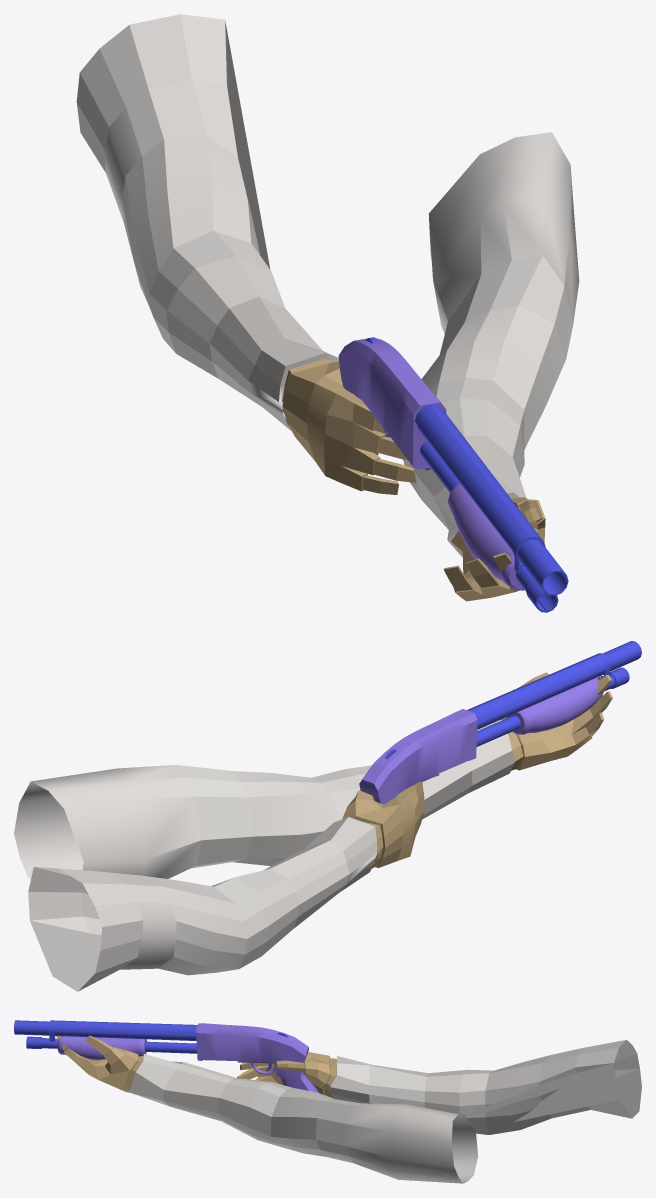
Rendered from maos_com_shotgun.fbx.
3 views of the same model, one above another, from view 1: azimuth 30°, elevation 25°; view 2: azimuth 150°, elevation 25°; view 3: azimuth 270°, elevation 25° (orthographic). The views are drawn at different scales.
Parts seen in each view (by area): view 1: Arm1, Arm1.001, mesh, mesh.002, mesh.004; view 2: Arm1.001, Arm1, mesh.002, mesh, mesh.004; view 3: Arm1.001, Arm1, mesh.002, mesh, mesh.004.
Part boxes in pixels (box(x1,y1,x2,y2)): Arm1: box(76, 14, 416, 494); Arm1.001: box(403, 132, 579, 601); mesh: box(366, 337, 568, 612); mesh.002: box(338, 337, 446, 470); mesh.004: box(448, 483, 524, 590); Arm1.001: box(14, 672, 612, 878); Arm1: box(28, 781, 424, 991); mesh.002: box(359, 709, 477, 804); mesh: box(385, 641, 641, 759); mesh.004: box(506, 678, 603, 734); Arm1.001: box(56, 1035, 477, 1183); Arm1: box(237, 1040, 641, 1134); mesh.002: box(196, 1023, 318, 1092); mesh: box(14, 1020, 288, 1053); mesh.004: box(57, 1036, 146, 1060).
Bounding box in the file's own units: 313 × 133 × 694.
